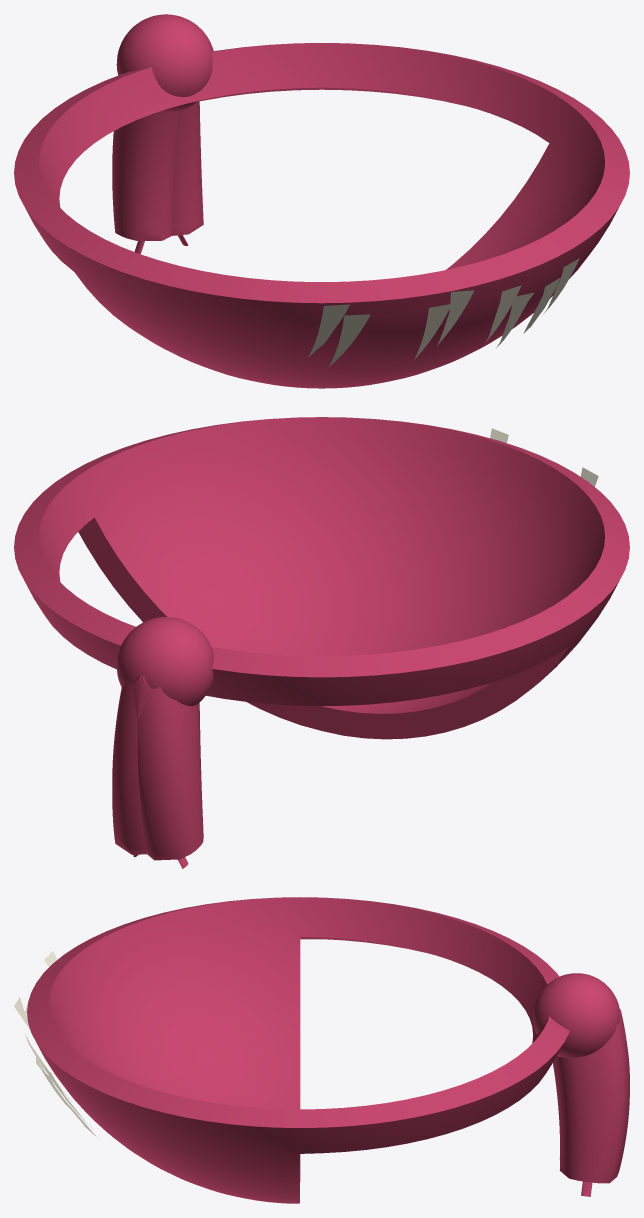
The model's file is pyke_hood.glb.
3 views of the same model, one above another, from view 1: azimuth 30°, elevation 25°; view 2: azimuth 150°, elevation 25°; view 3: azimuth 270°, elevation 25° (orthographic). The views are drawn at different scales.
Visible parts, largest first — view 1: pyke_hood; view 2: pyke_hood; view 3: pyke_hood.
Boxes of the visible parts, bbox=[...] form: pyke_hood: bbox=[14, 14, 629, 388]; pyke_hood: bbox=[14, 417, 629, 868]; pyke_hood: bbox=[14, 897, 629, 1203].
Bounding box in the file's own units: 0.4485 × 0.1897 × 0.5056.
